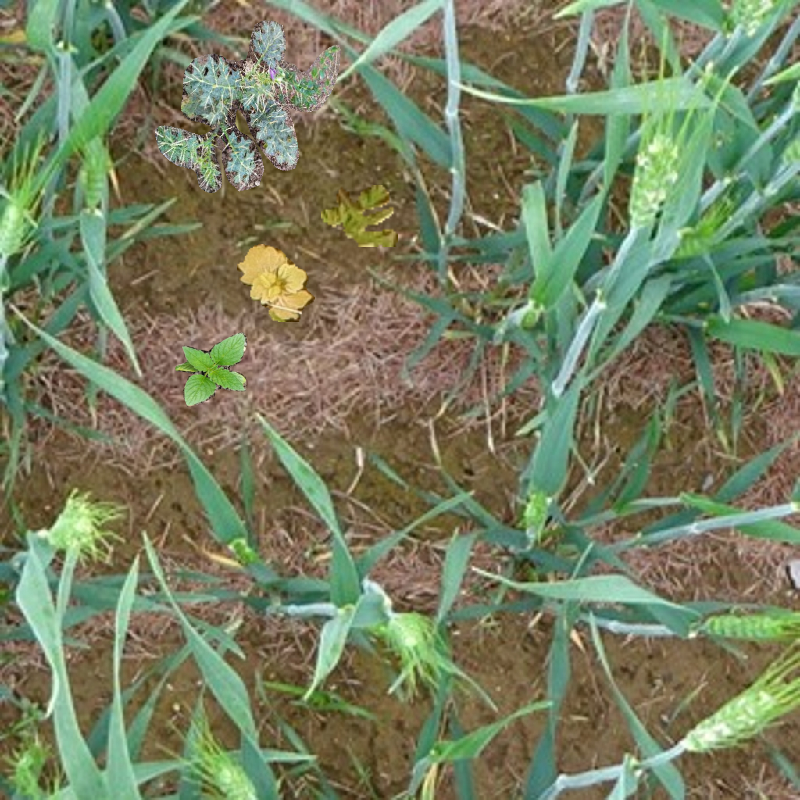spikelet: (674, 667, 793, 757), (624, 132, 680, 233), (692, 603, 795, 642), (203, 747, 263, 800), (46, 494, 99, 549), (673, 207, 728, 257), (81, 131, 112, 214), (385, 611, 433, 660), (521, 486, 554, 548), (726, 1, 780, 37), (1, 198, 31, 259), (232, 531, 260, 564)
weed: (151, 7, 346, 195), (237, 244, 315, 322), (175, 332, 247, 407), (321, 185, 398, 247)
